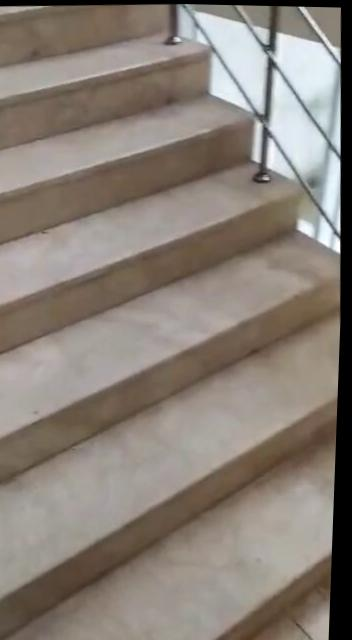Bench: (0, 7, 352, 640)
